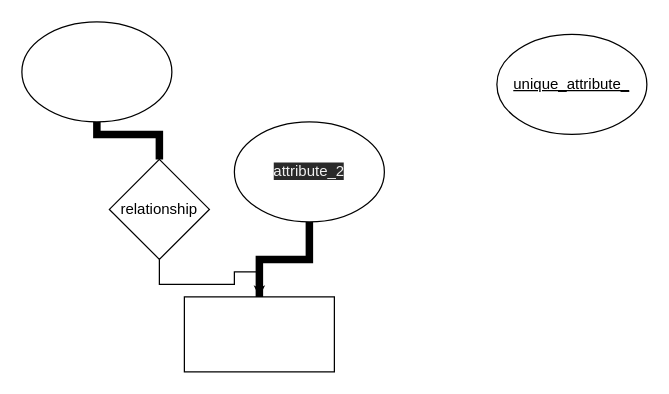
This 669x394 diagram has some shape labels left out. Each missing label, with the box of its shape:
attribute_1 - must have: (21, 21, 172, 122)
Entity: (183, 296, 334, 372)
